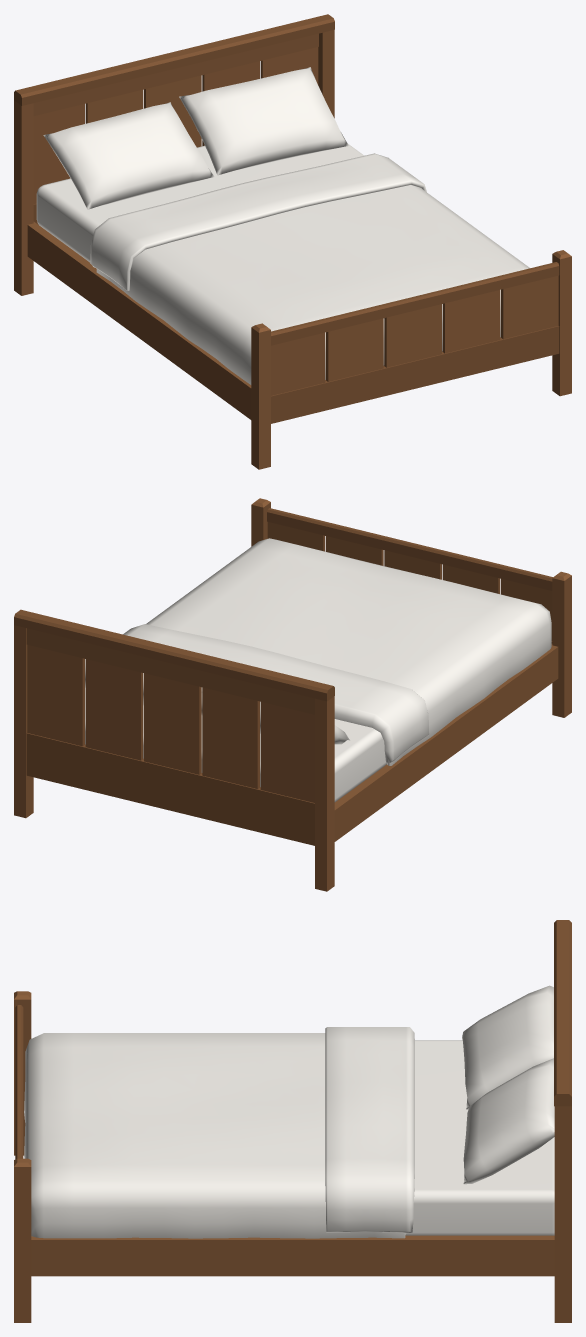
Rendered from bed.web.glb.
3 renders of one model, top to bottom at view 1: azimuth 30°, elevation 25°; view 2: azimuth 150°, elevation 25°; view 3: azimuth 270°, elevation 25°, orthographic. The views are drawn at different scales.
Parts seen in each view (by area): view 1: Bed_Frame, Bed_Duvet, Bed_Pillow, Bed_Sheet; view 2: Bed_Frame, Bed_Duvet, Bed_Sheet; view 3: Bed_Duvet, Bed_Frame, Bed_Sheet, Bed_Pillow.
Boxes of the visible parts, x1,y1,x2,y2 form: Bed_Frame: (14, 14, 571, 469); Bed_Duvet: (90, 153, 529, 384); Bed_Pillow: (43, 67, 348, 209); Bed_Sheet: (36, 144, 363, 262); Bed_Frame: (14, 498, 571, 891); Bed_Duvet: (123, 538, 551, 765); Bed_Sheet: (85, 687, 387, 802); Bed_Duvet: (24, 1027, 414, 1238); Bed_Frame: (14, 920, 571, 1322); Bed_Sheet: (405, 1040, 554, 1235); Bed_Pillow: (462, 985, 554, 1184).
Size of what is drawn, in the model's own units: 1.55 by 0.95 by 2.1.
